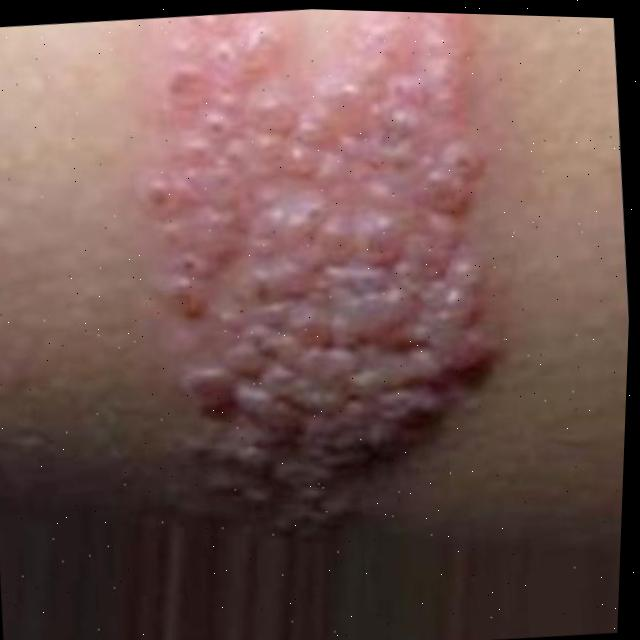Shingles: (118, 4, 510, 525)
